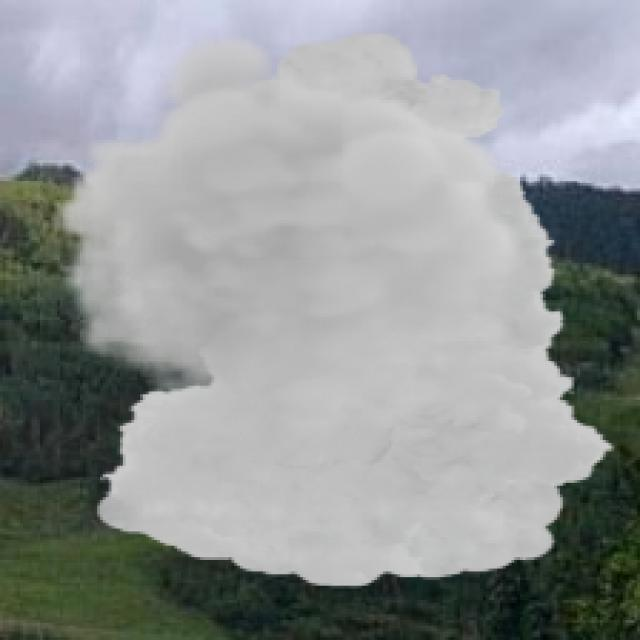smoke: (52, 31, 617, 588)
